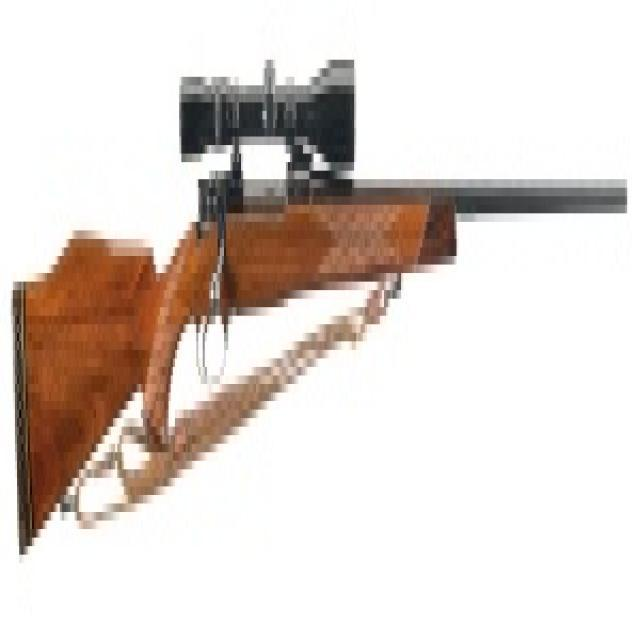weapon: (7, 34, 631, 587)
